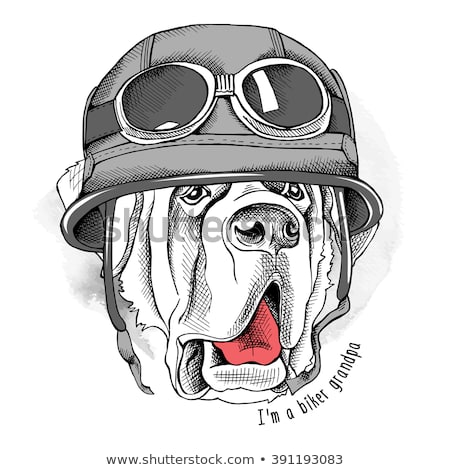with_helmet: (64, 19, 389, 240)
